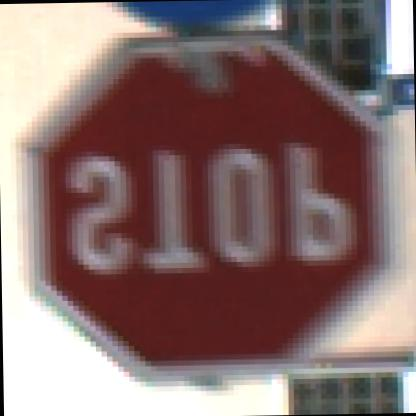stop: (24, 33, 384, 394)
